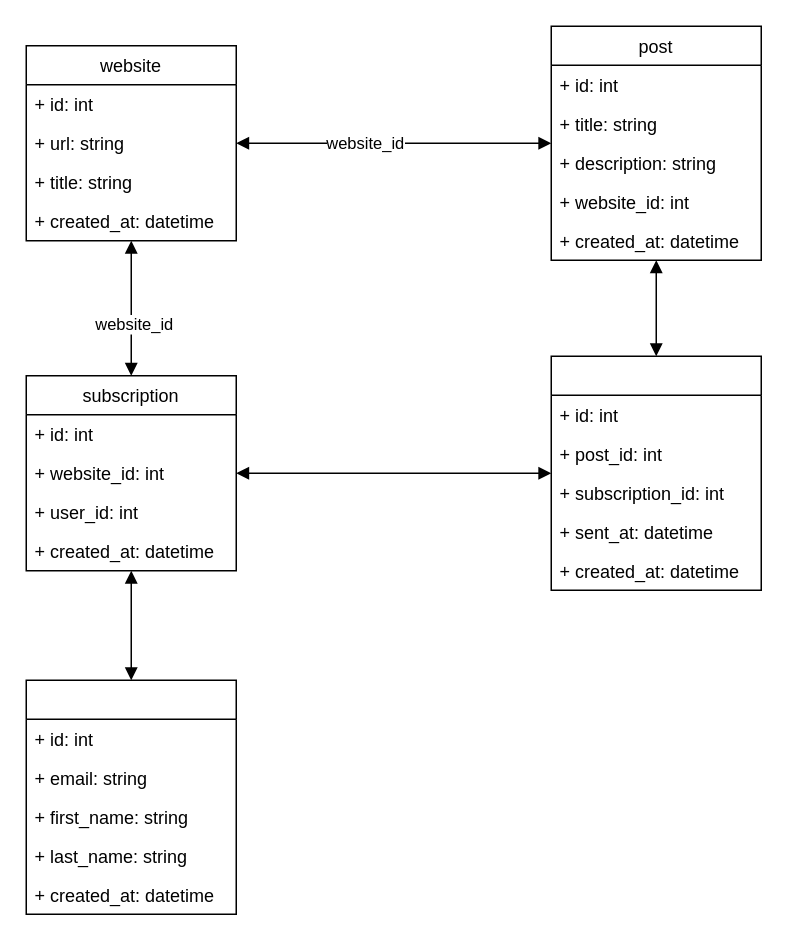
Some shapes in this 788 by 945 pixel diagram are drawn without their labels. The box of each missing label's shape, as (x1, y1, x2, y2) in pixels:
notification: (550, 355, 761, 590)
User: (25, 679, 236, 914)
